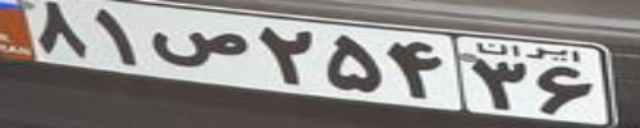1: (90, 7, 137, 65)
2: (257, 26, 313, 85)
3: (464, 58, 528, 111)
4: (385, 40, 442, 99)
5: (320, 33, 382, 93)
6: (534, 64, 592, 113)
8: (32, 0, 86, 57)
saat: (147, 31, 247, 68)
